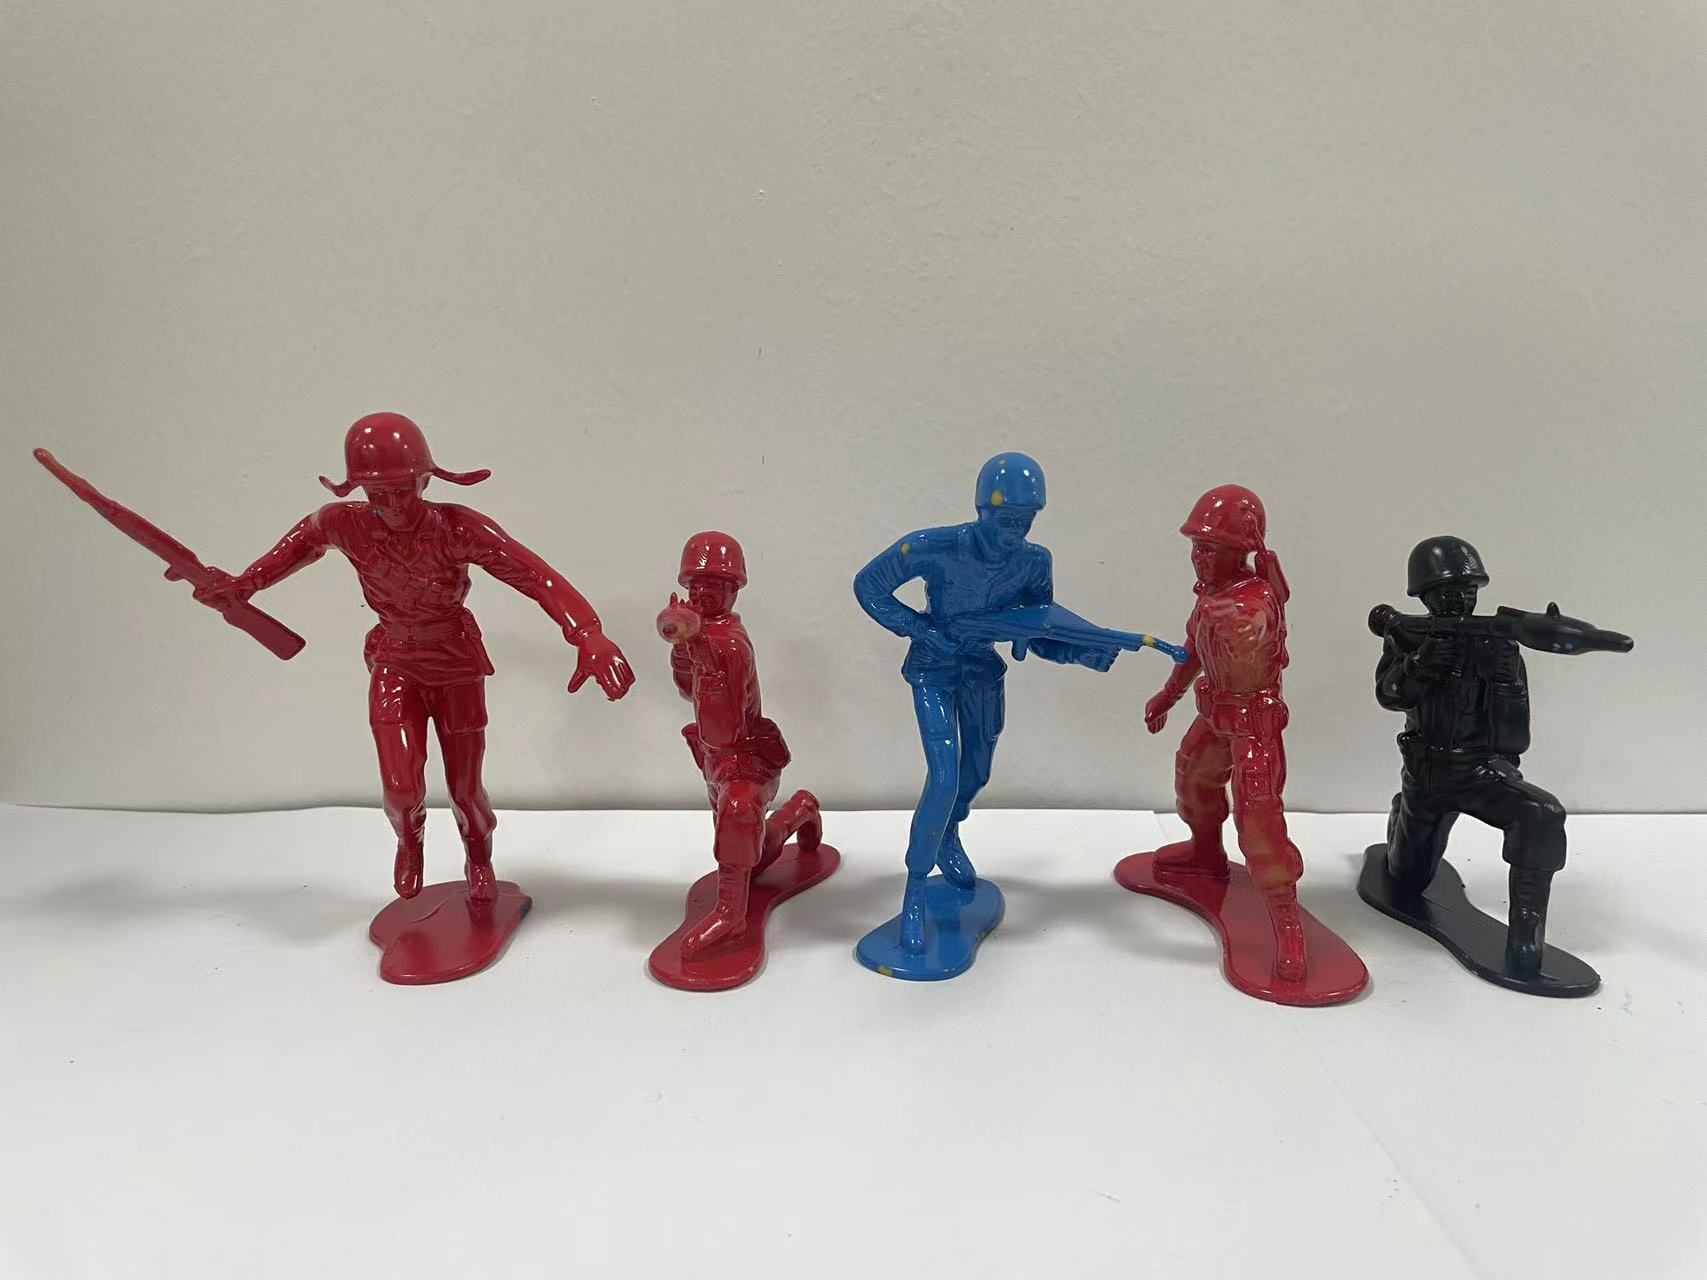black: (1349, 487, 1673, 1041)
blue: (845, 393, 1124, 1019)
red: (31, 340, 628, 994), (1130, 445, 1356, 1041), (622, 484, 849, 1011)
